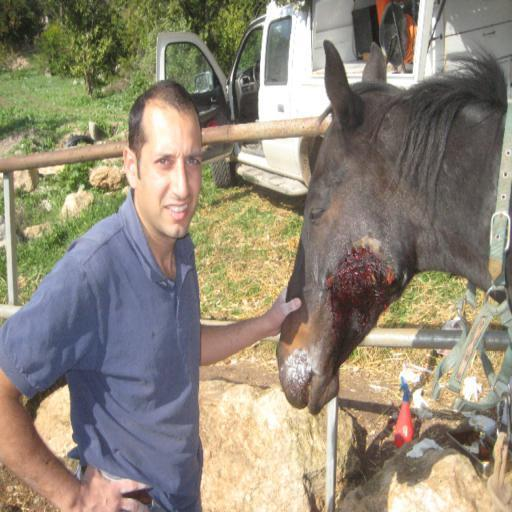horse: (274, 39, 512, 414)
